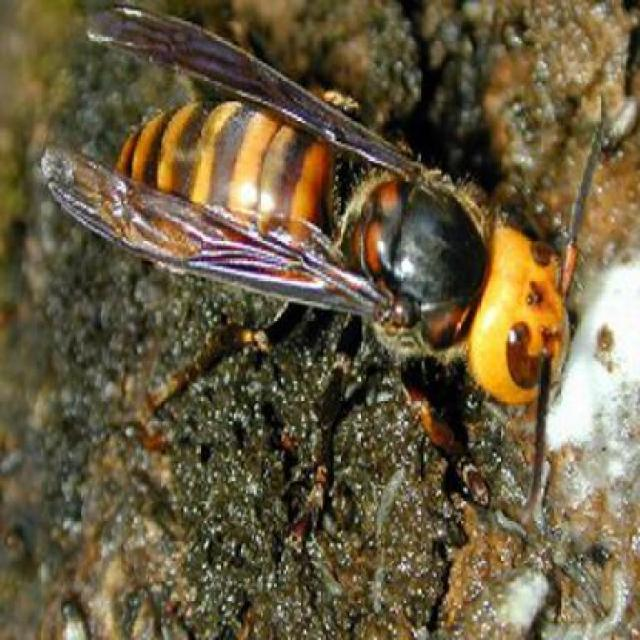Wasp: (36, 2, 576, 500)
